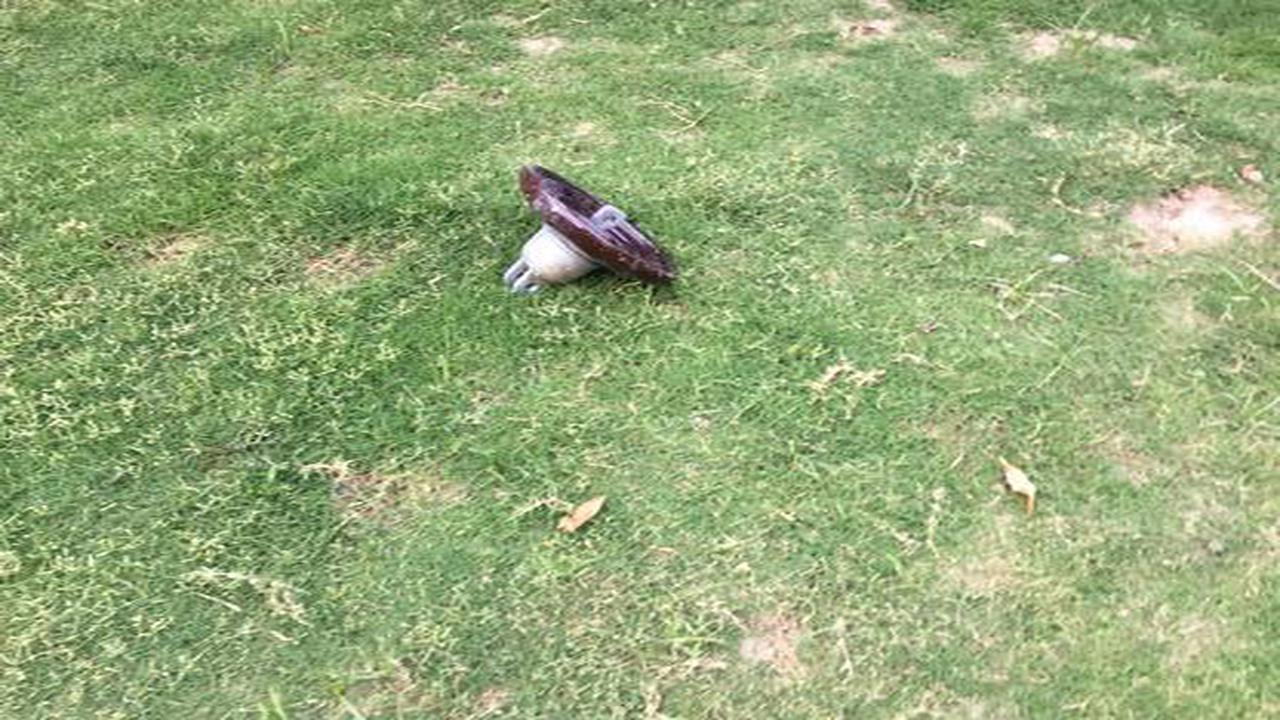insulator_disc: (496, 161, 685, 297)
